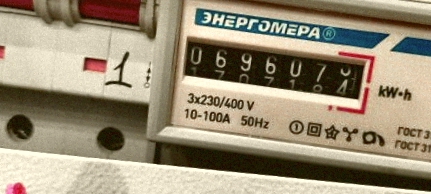0: (287, 55, 305, 79), (187, 43, 204, 66)
4: (334, 75, 350, 98)
6: (212, 46, 229, 69), (262, 53, 279, 75)
7: (311, 61, 329, 84)
9: (237, 50, 253, 72)
screen: (167, 24, 380, 113)
